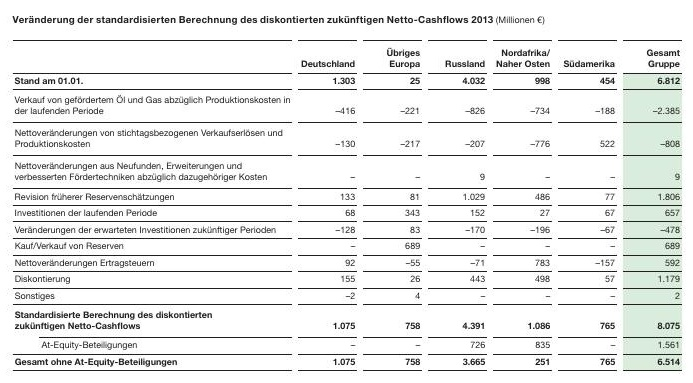table: (0, 0, 693, 383)
